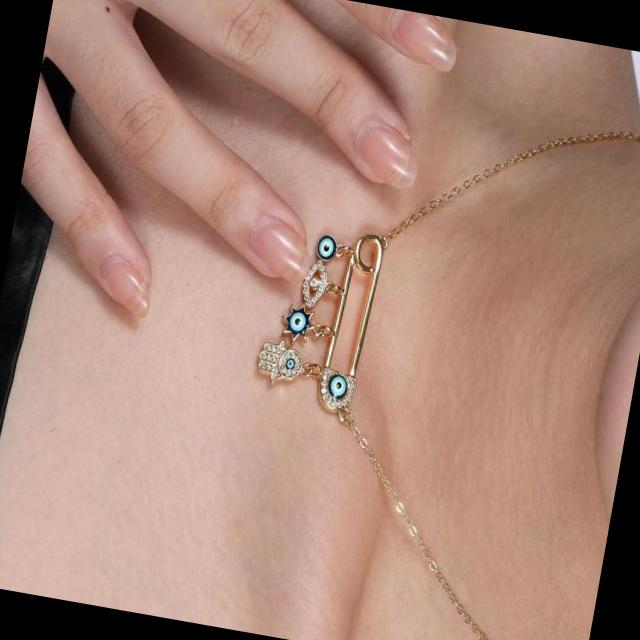Nail: (353, 118, 411, 185), (393, 9, 454, 69)
